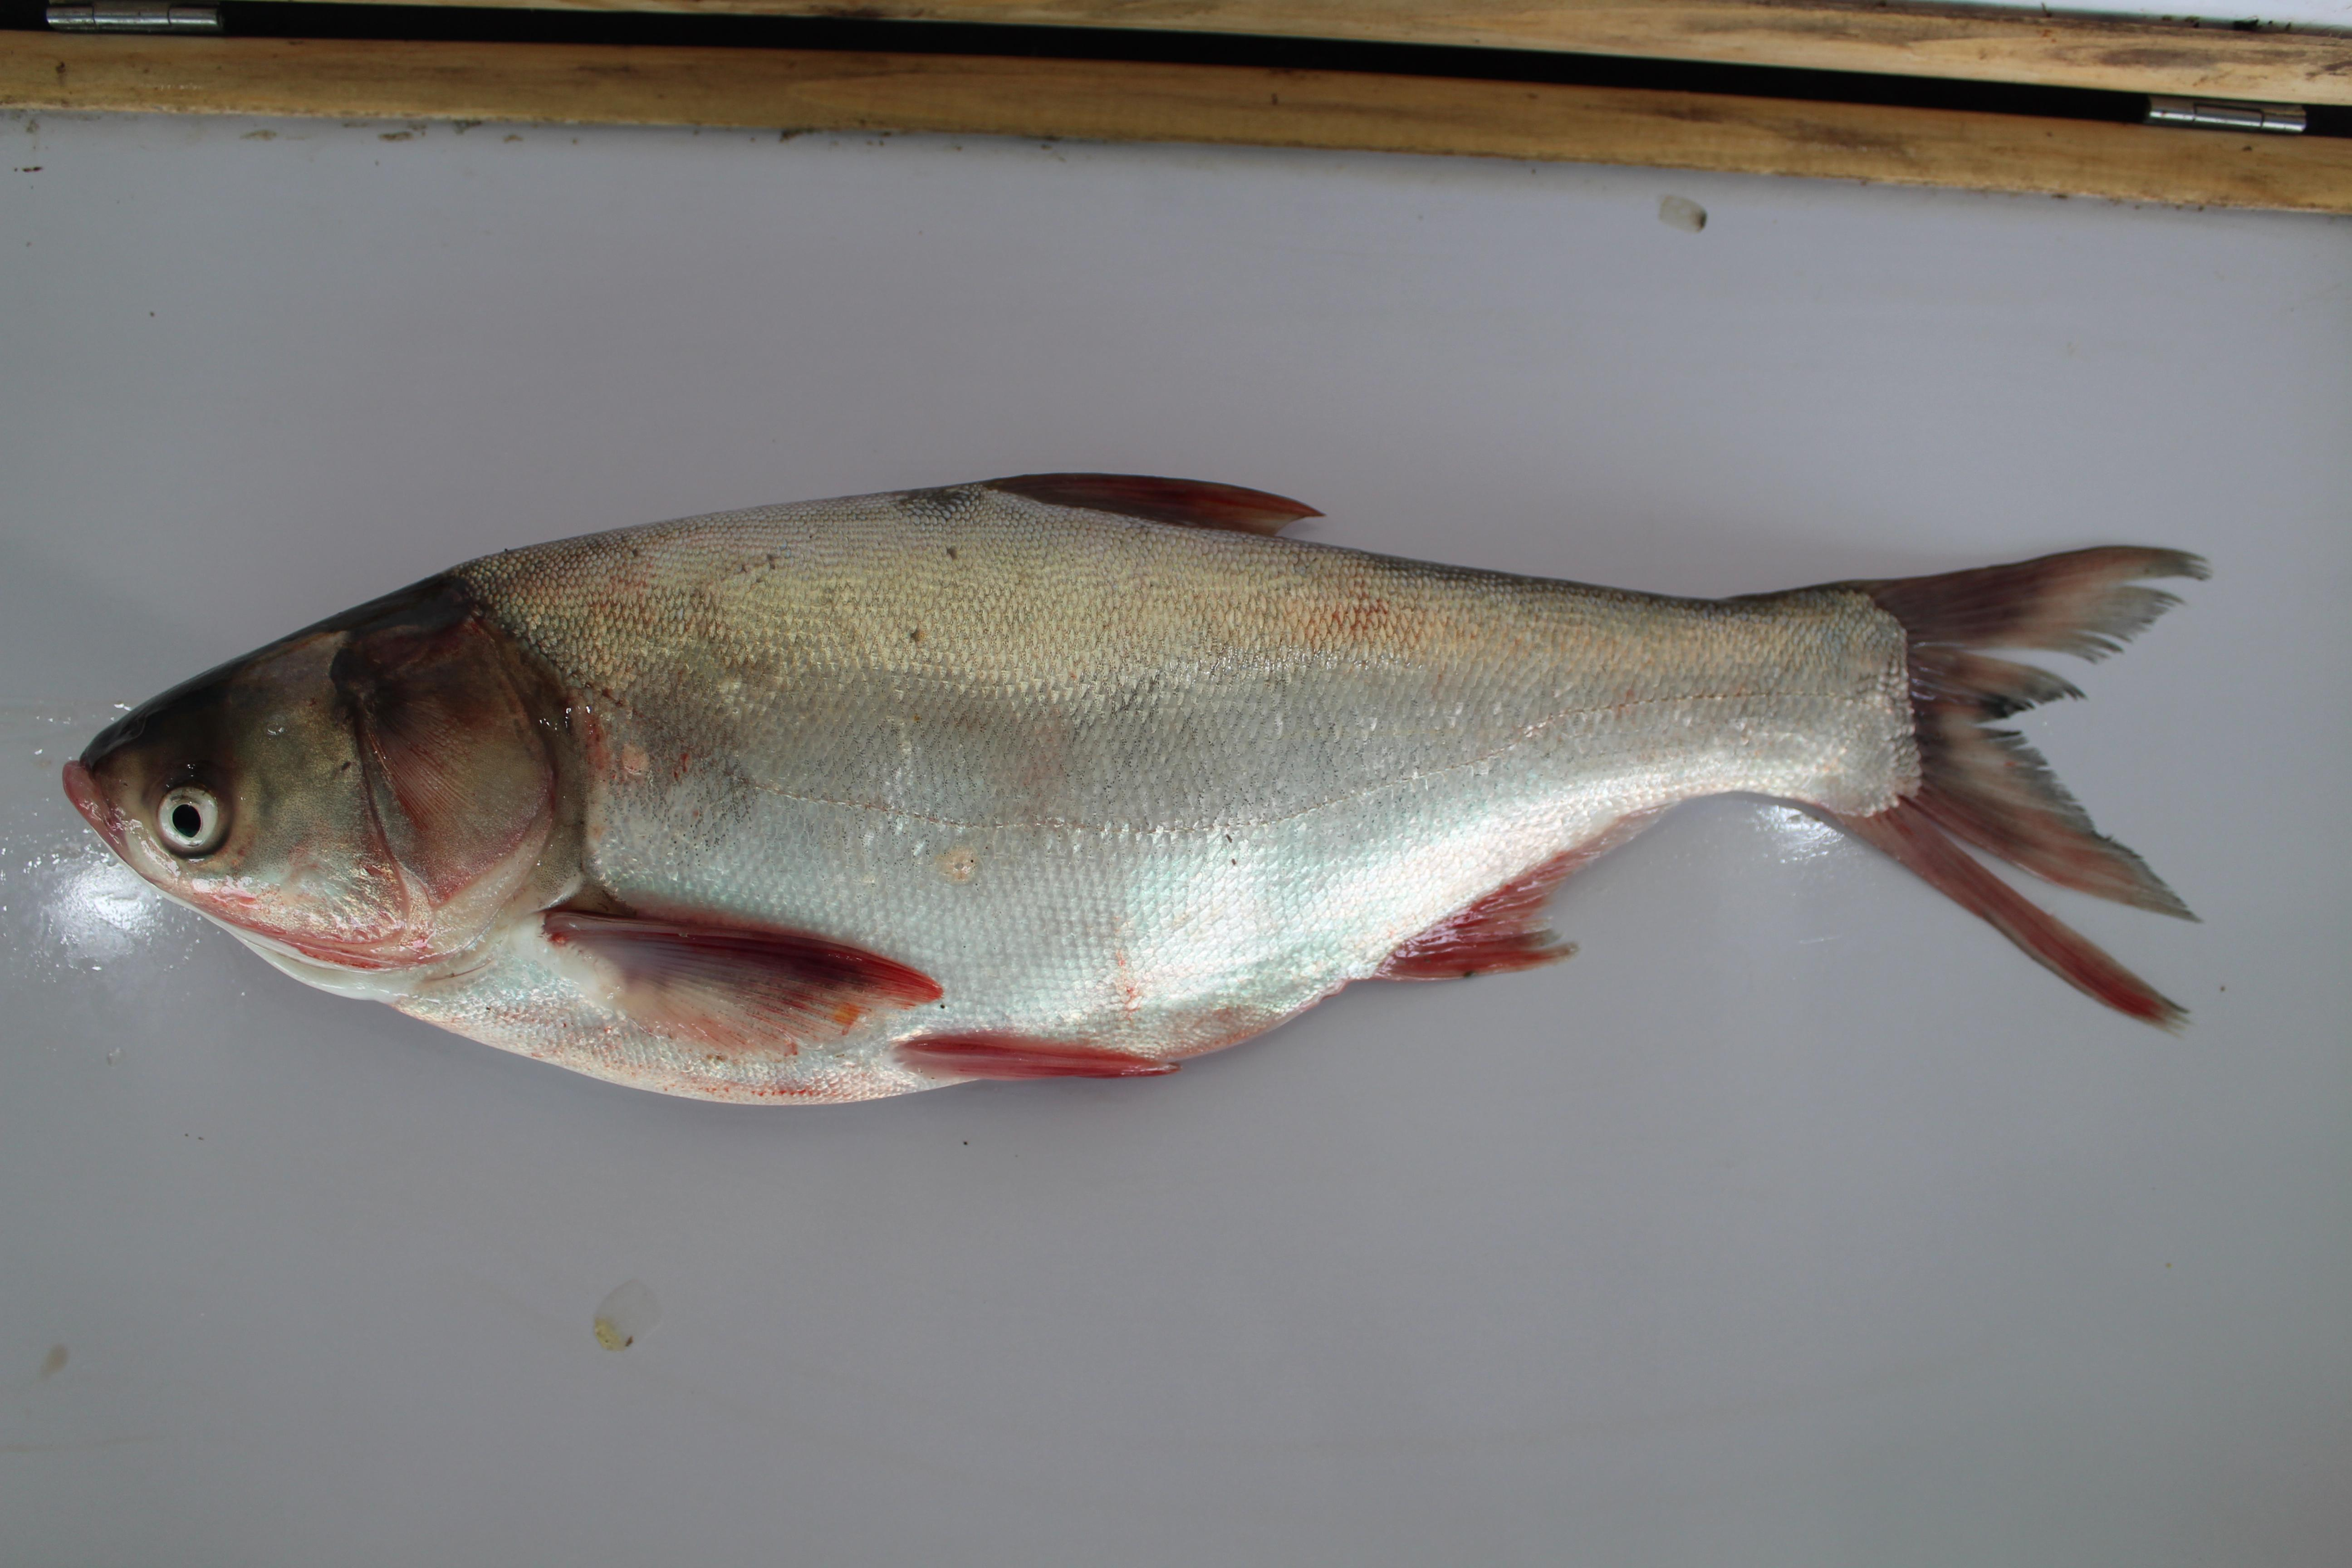Silver Carp: (59, 436, 2229, 1139)
